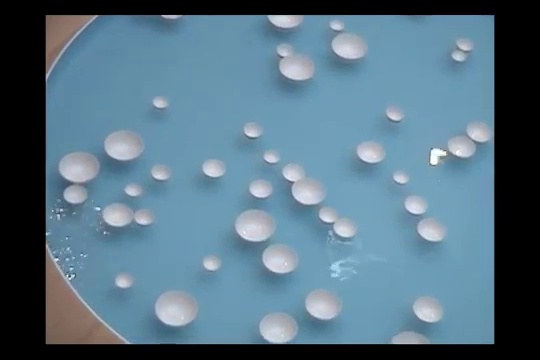bowl: (154, 290, 199, 327), (235, 209, 277, 242), (258, 312, 299, 344), (104, 130, 145, 161), (58, 152, 100, 182), (304, 289, 342, 321), (262, 243, 299, 274), (331, 33, 367, 60), (278, 55, 315, 81), (291, 178, 326, 205), (412, 296, 444, 323), (101, 203, 134, 225), (417, 217, 447, 241), (356, 141, 387, 164), (446, 135, 476, 158), (466, 121, 492, 143), (389, 331, 432, 344), (63, 184, 89, 205), (267, 14, 305, 28), (404, 195, 429, 214), (201, 159, 226, 177), (282, 163, 306, 181), (333, 219, 357, 237), (249, 180, 272, 198), (150, 164, 172, 180), (134, 208, 154, 225), (243, 122, 263, 138), (318, 207, 338, 223), (385, 106, 405, 121), (203, 255, 222, 270), (115, 273, 134, 287), (124, 183, 143, 196), (456, 38, 474, 51), (276, 43, 293, 56), (392, 171, 409, 184), (263, 150, 280, 163), (451, 50, 469, 62), (152, 96, 169, 108), (329, 20, 345, 31)
